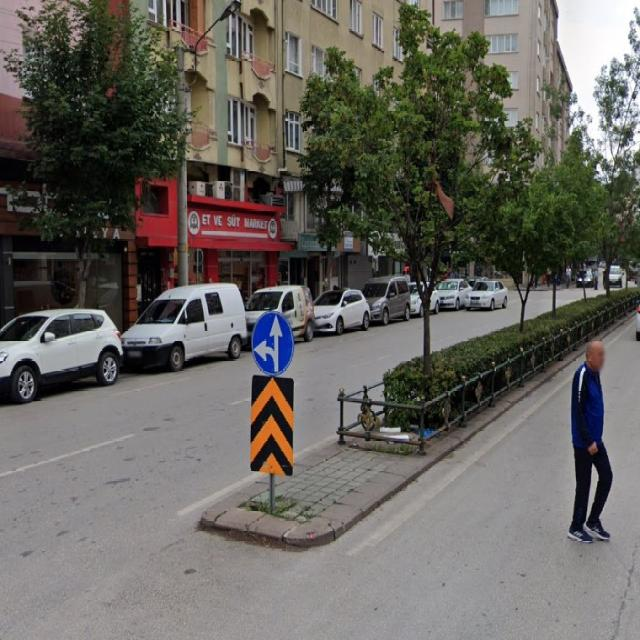ilerisol: (252, 312, 294, 373)
